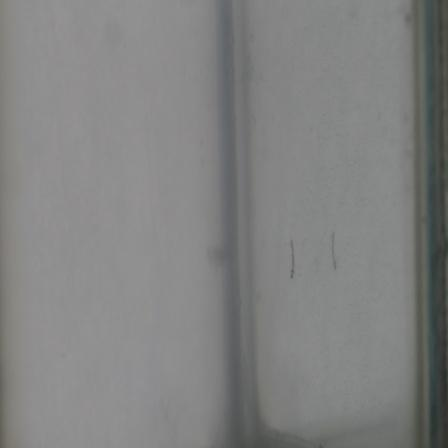Jentik-Nyamuk: (284, 231, 303, 285)
